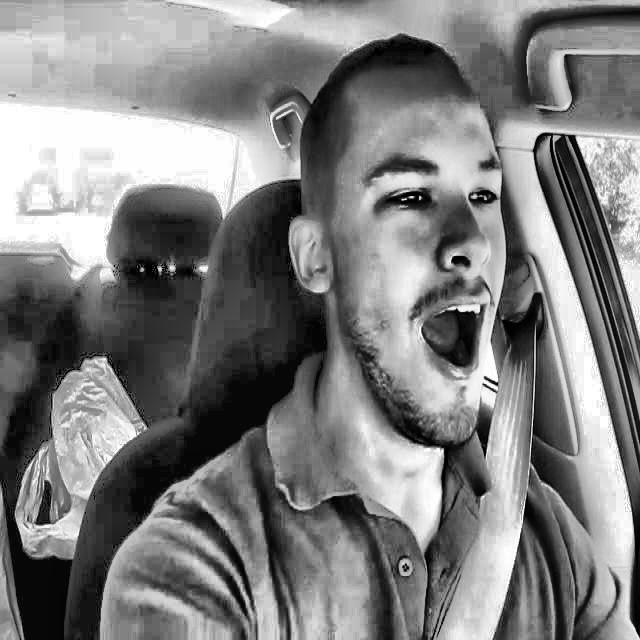open_eyes: (371, 179, 441, 226), (461, 177, 515, 220)
open_mouth: (405, 281, 500, 392)
